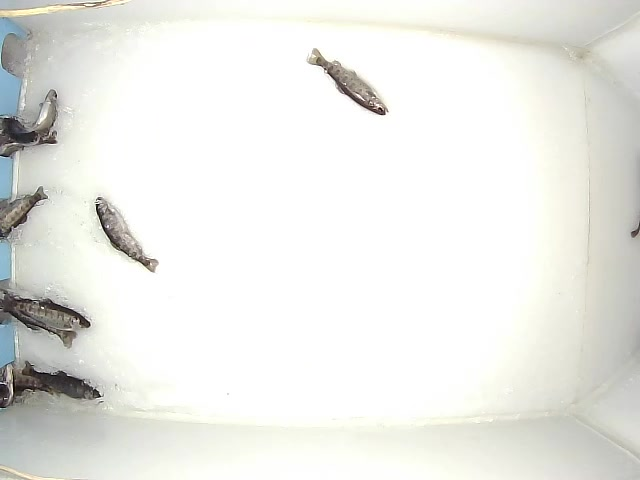fish: (306, 47, 390, 117), (94, 196, 159, 275), (20, 360, 104, 402), (1, 294, 92, 332), (4, 88, 59, 139)
